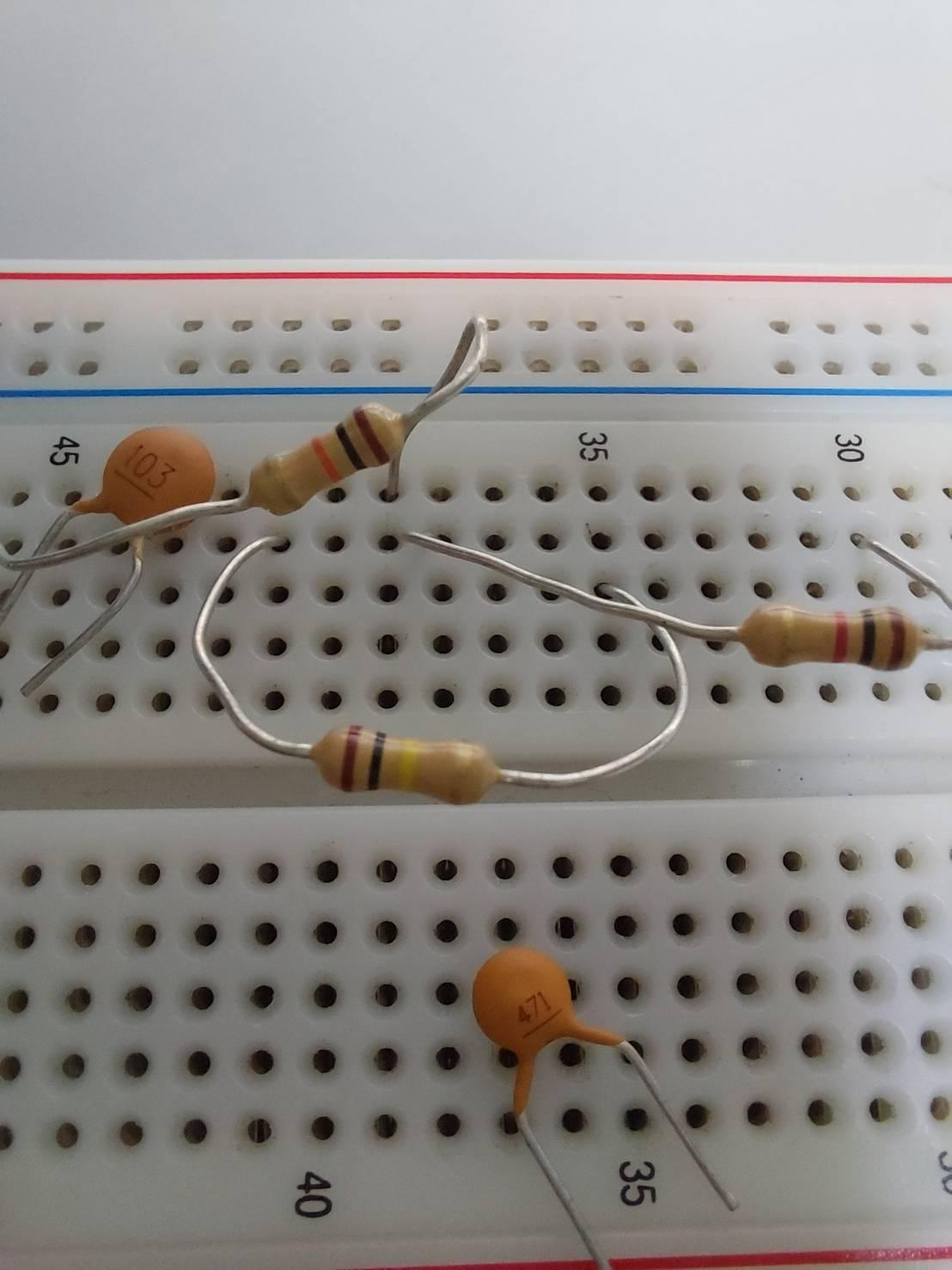resistor: (245, 402, 414, 516), (308, 711, 497, 809), (751, 597, 924, 678)
